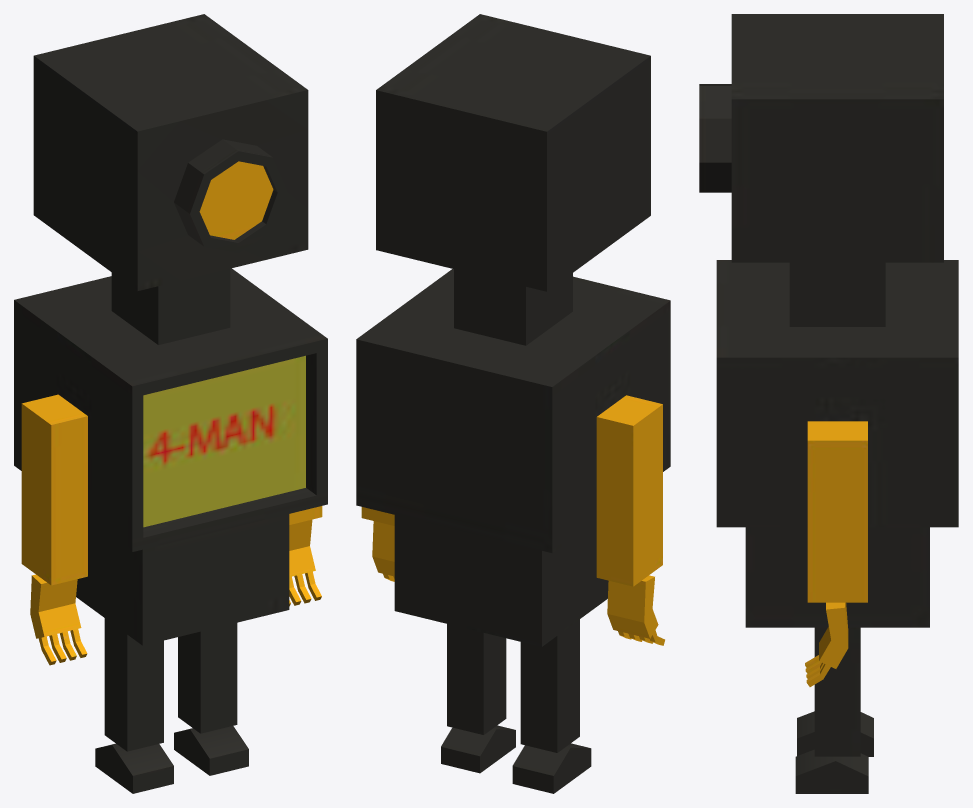
The model's file is 4Man.FBX.
3 views of the same model, side by side, from view 1: azimuth 30°, elevation 25°; view 2: azimuth 150°, elevation 25°; view 3: azimuth 270°, elevation 25° (orthographic). The views are drawn at different scales.
Parts seen in each view (by area): view 1: Robot; view 2: Robot; view 3: Robot.
Part boxes in pixels (left/top/right/bottom): Robot: left=14, top=14, right=327, bottom=793; Robot: left=356, top=14, right=670, bottom=793; Robot: left=699, top=14, right=958, bottom=793.
Bounding box in the file's own units: 10.25 × 24.92 × 8.27.
Materials: 1 (1 with a texture image).
